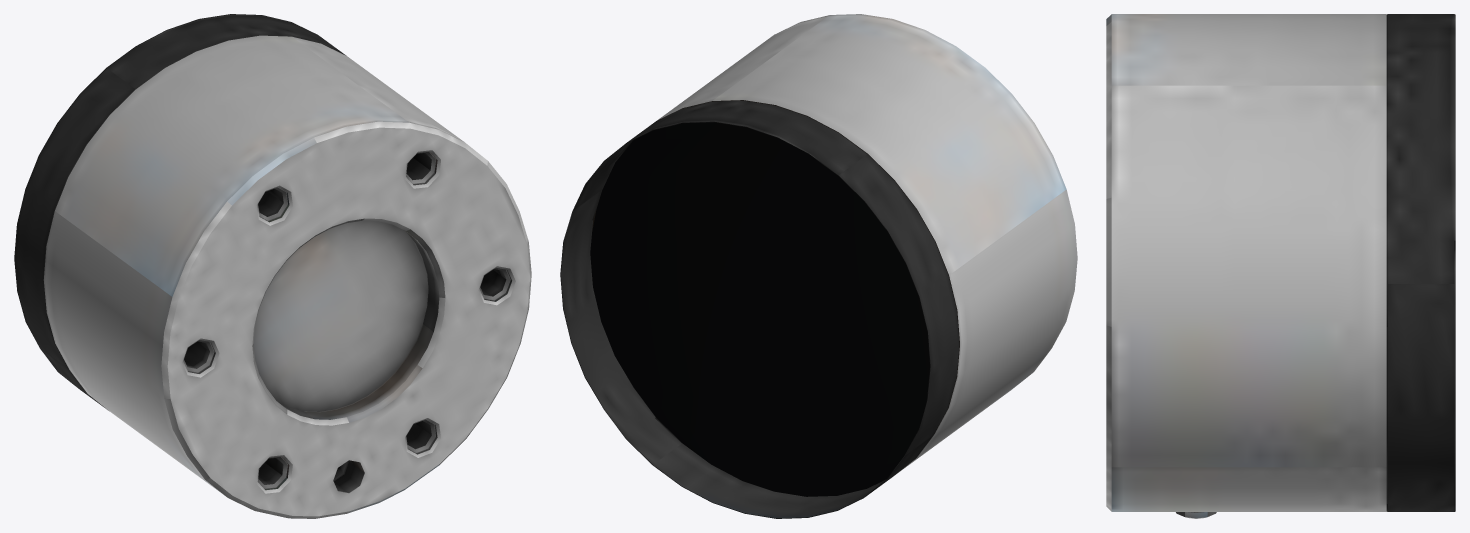
File: wrist_3_link.glb
3 views of the same model, side by side, from view 1: azimuth 30°, elevation 25°; view 2: azimuth 150°, elevation 25°; view 3: azimuth 270°, elevation 25° (orthographic). The views are drawn at different scales.
Parts seen in each view (by area): view 1: wrist-3-mesh_003, wrist-3-mesh_001; view 2: wrist-3-mesh_001, wrist-3-mesh_003; view 3: wrist-3-mesh_003, wrist-3-mesh_001.
Boxes of the visible parts, <box> form: wrist-3-mesh_003: <box>43,35,531,518</box>; wrist-3-mesh_001: <box>14,14,346,410</box>; wrist-3-mesh_001: <box>560,100,959,518</box>; wrist-3-mesh_003: <box>592,14,1077,472</box>; wrist-3-mesh_003: <box>1106,14,1386,518</box>; wrist-3-mesh_001: <box>1386,14,1455,511</box>.
Size of the model in its own units: 0.1 by 0.1057 by 0.0699.
Materials: 1 (1 with a texture image).
